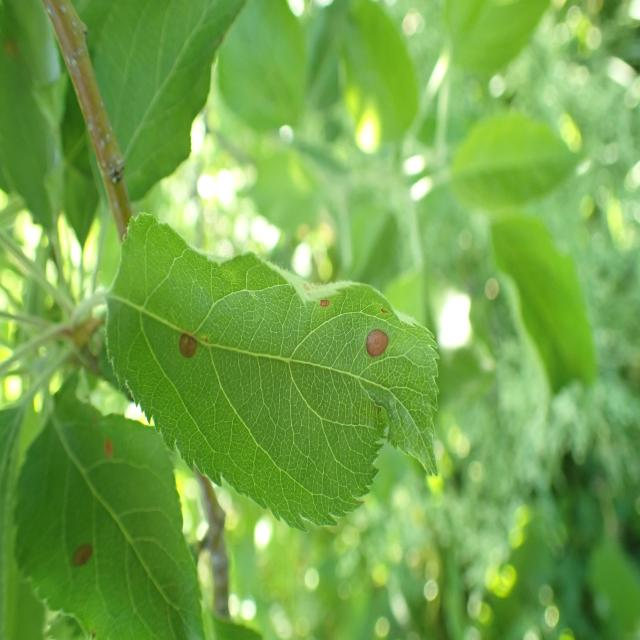Black Rot: (50, 531, 104, 582), (170, 322, 204, 374), (354, 327, 400, 362), (87, 429, 124, 471), (313, 276, 337, 314), (375, 302, 395, 320)
